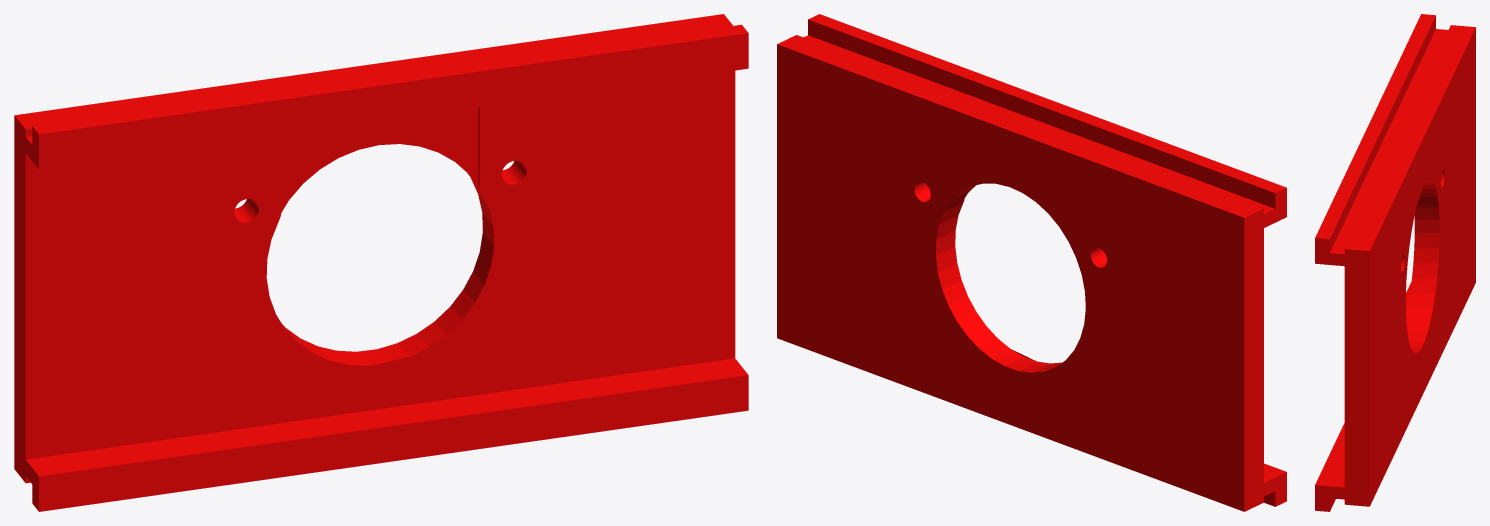
The model's file is gRail_b.obj.
3 views of the same model, side by side, from view 1: azimuth 30°, elevation 25°; view 2: azimuth 150°, elevation 25°; view 3: azimuth 270°, elevation 25° (orthographic). The views are drawn at different scales.
Visible parts, largest first — view 1: gRail_b; view 2: gRail_b; view 3: gRail_b.
Part boxes in pixels (bbox=[...]): gRail_b: bbox=[14, 14, 748, 511]; gRail_b: bbox=[777, 14, 1286, 511]; gRail_b: bbox=[1315, 14, 1475, 511].
Size of the model in its own units: 71.66 by 39.83 by 21.31.
